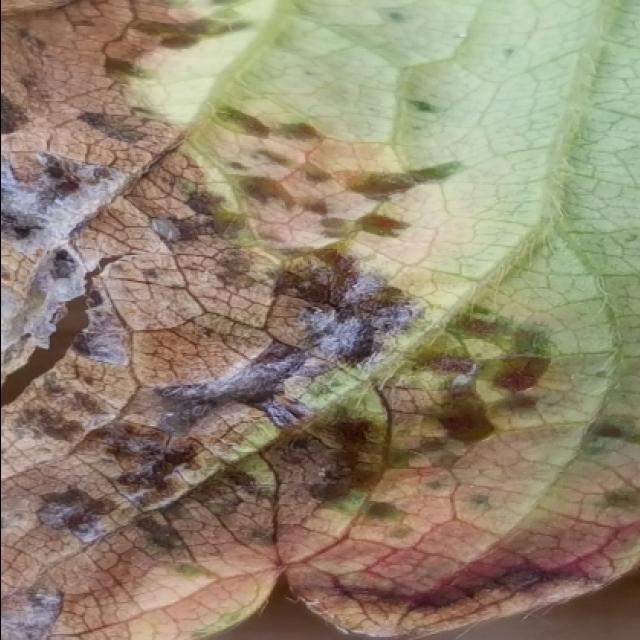Angular Leafspot: (2, 0, 640, 638)
